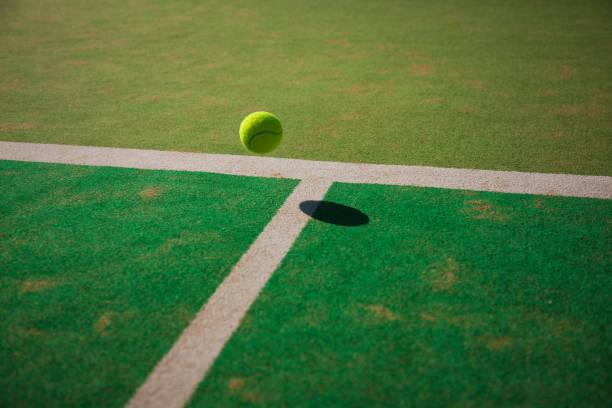ball_tennis: (239, 111, 282, 154)
